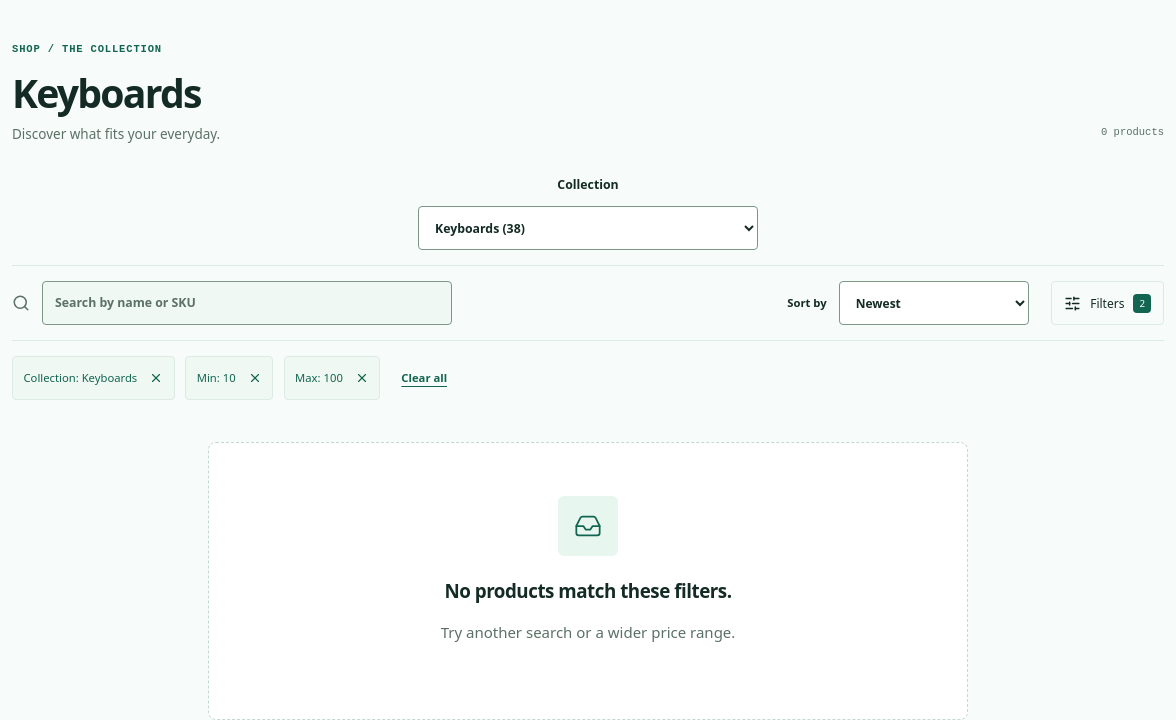
Test case: removes one applied price filter while preserving the other filters and resetting pagination
Step 1. Click the button with aria-label "Remove minimum price filter" → click(229, 378), box left=185, top=356, right=273, bottom=400
(page scrolled)
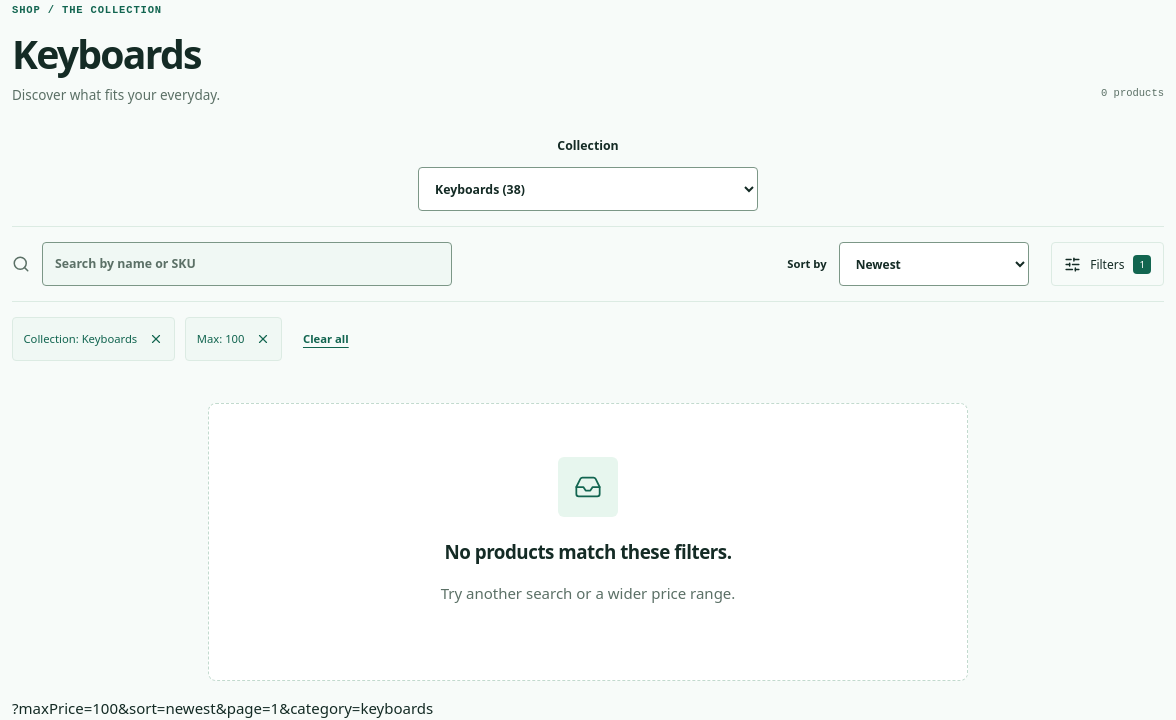
Check: the text with test id "location" shows "maxPrice=100", box left=12, top=698, right=433, bottom=718
Check: the text with test id "location" no longer shows "minPrice", box left=12, top=698, right=433, bottom=718
Check: the text with test id "location" shows "page=1", box left=12, top=698, right=433, bottom=718
